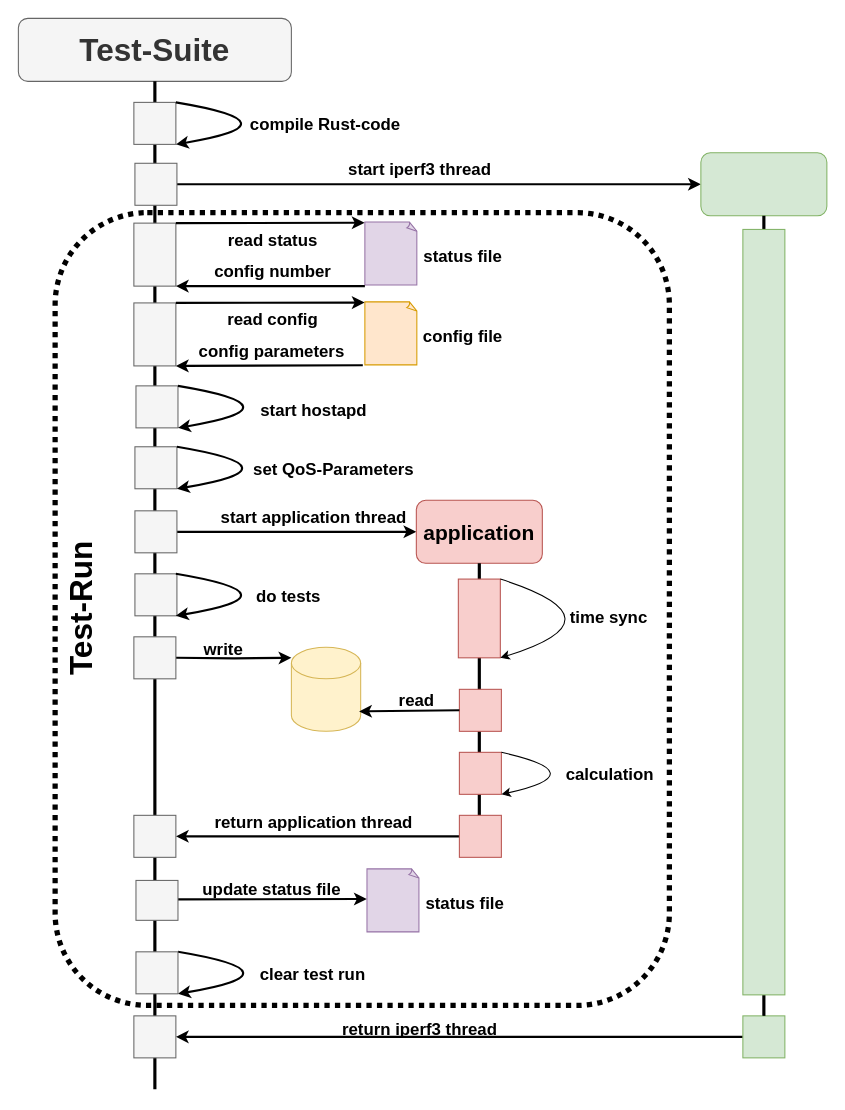
Image size: 845x1110. Some labels were removed from this diagram. Each missing label, with the box of its shape:
iperf3 server: (700, 152, 827, 216)
pipe: (290, 646, 361, 731)
